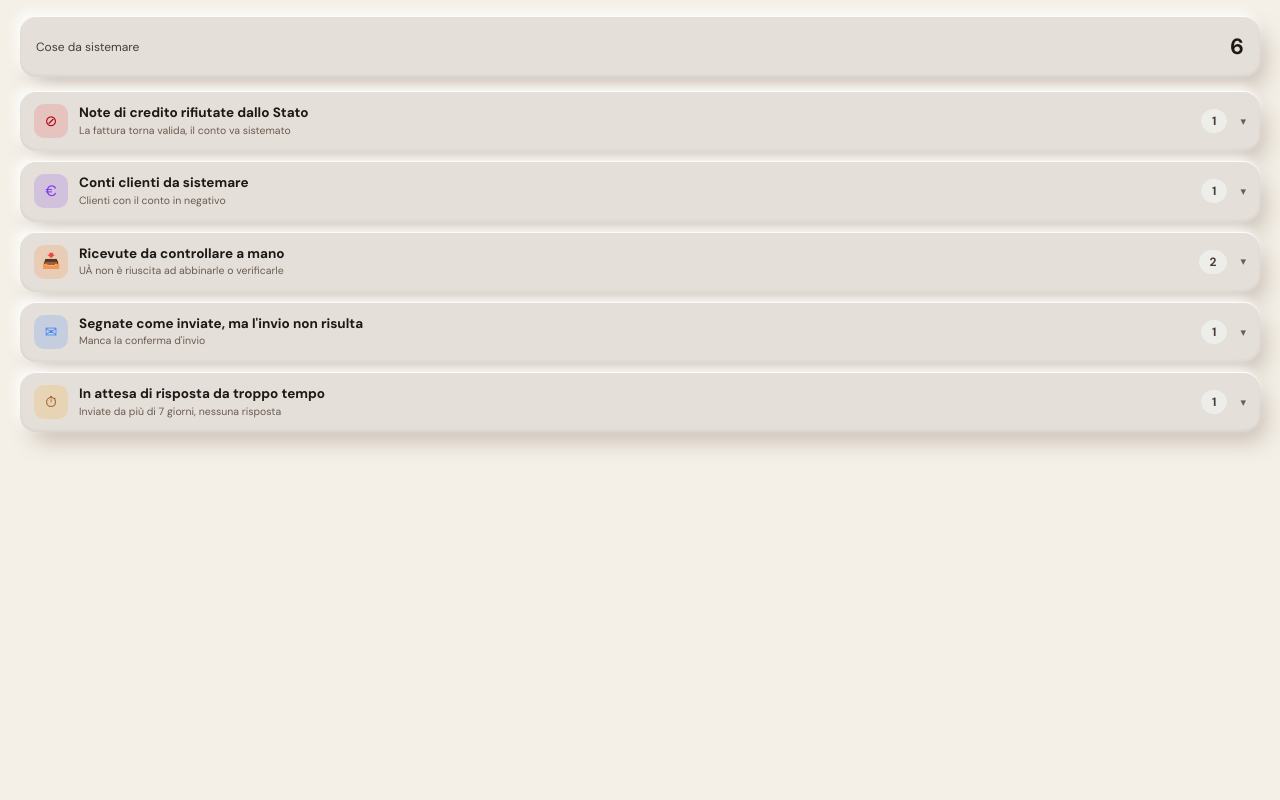
Test: RiconciliazioniClient — «Ho verificato sul portale» (override stagnanti, decisione 16/07 opzione 1) › apre la sheet con le 3 opzioni allowlist in parole semplici e submit spento
The image size is (1280, 800).
Click the button "In attesa di risposta da troppo tempo" at (51, 402), box [20,372,1260,432]
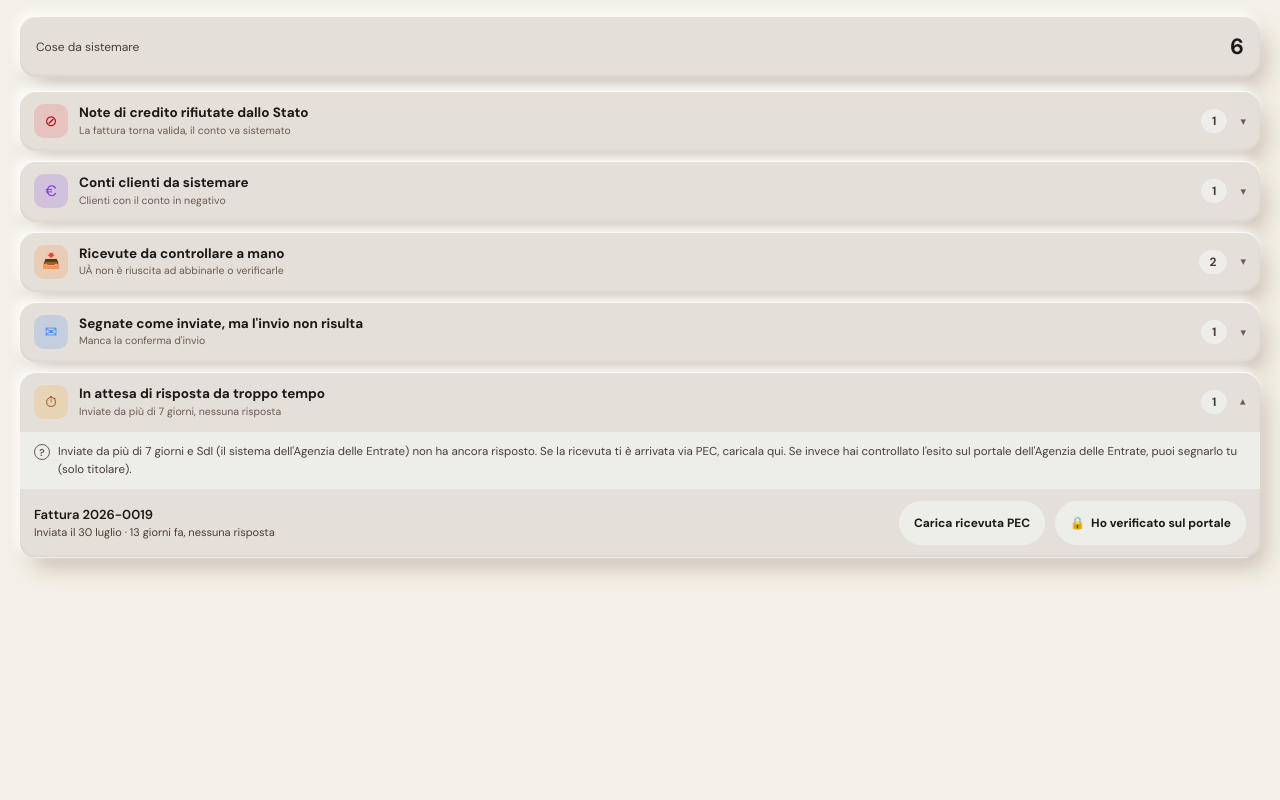
Click the button "🔒 Ho verificato sul portale" at (1151, 523), box [1055,501,1246,545]
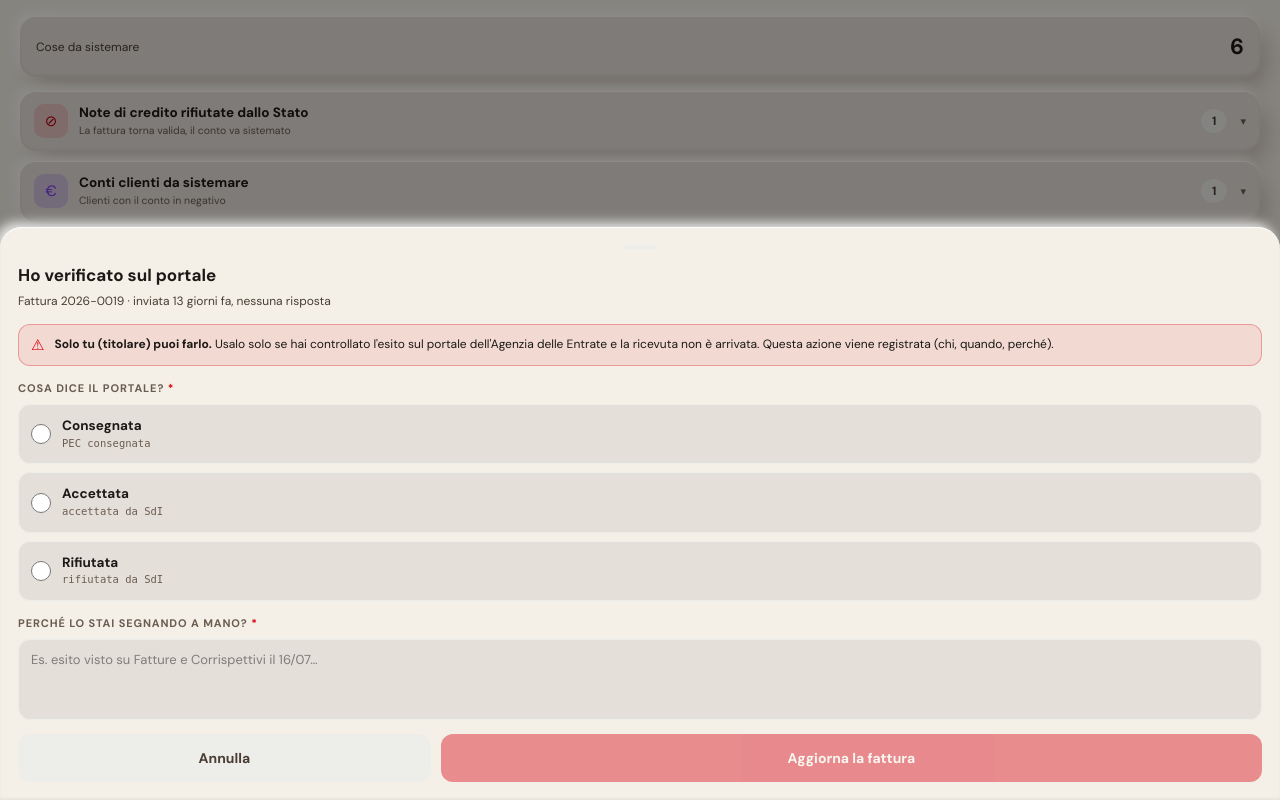
Check: the dialog is shown
Check: the heading "Ho verificato sul portale" is shown, box [18,264,216,286]
Check: the text "questa azione viene registrata" is shown, box [212,336,1054,352]
